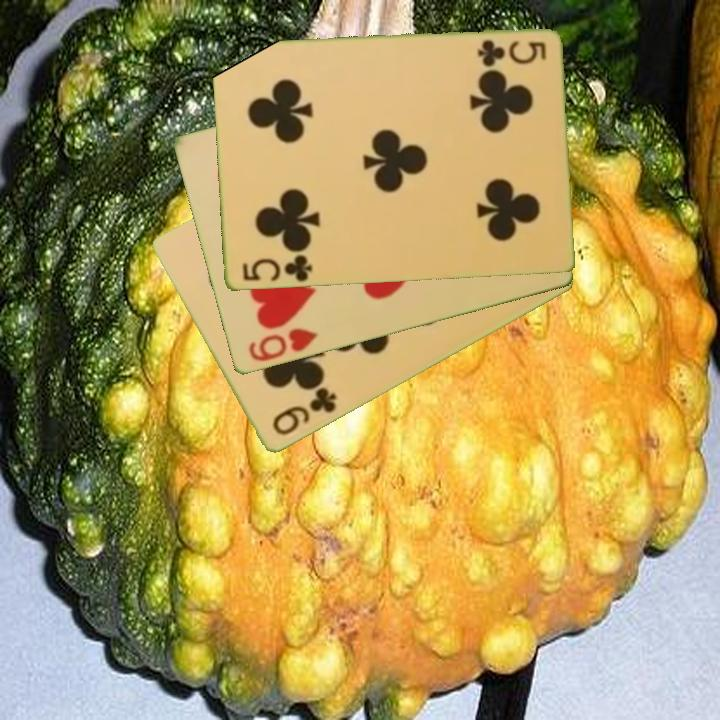5c: (239, 252, 315, 285), (473, 36, 549, 68)
6h: (244, 325, 321, 365)
9c: (268, 384, 340, 439)
